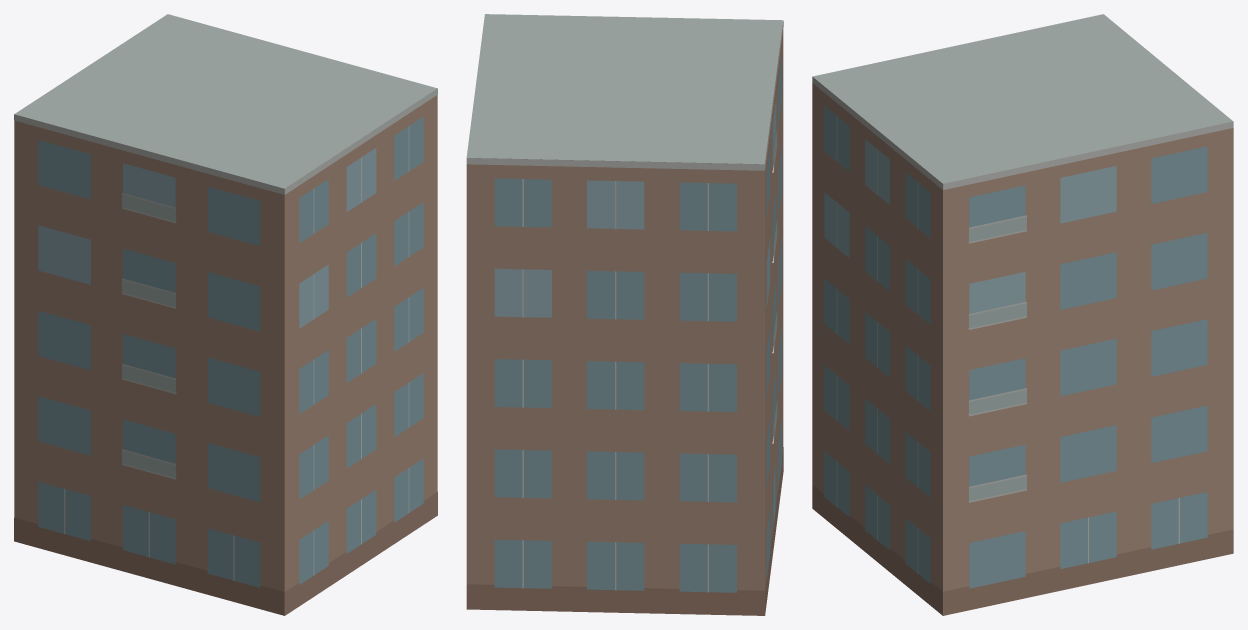
Rendered from survey-upis-32945405.glb.
The picture shows the model from 3 angles, left to right: view 1: azimuth 30°, elevation 25°; view 2: azimuth 150°, elevation 25°; view 3: azimuth 270°, elevation 25°; orthographic projection. The views are drawn at different scales.
Parts seen in each view (by area): view 1: survey-upis-32945405.tmp; view 2: survey-upis-32945405.tmp; view 3: survey-upis-32945405.tmp.
Boxes of the visible parts, left/top/right/bottom form: survey-upis-32945405.tmp: left=14, top=14, right=437, bottom=615; survey-upis-32945405.tmp: left=466, top=14, right=783, bottom=615; survey-upis-32945405.tmp: left=812, top=14, right=1233, bottom=615.
Bounding box in the file's own units: 14.18 × 16.8 × 14.86.
